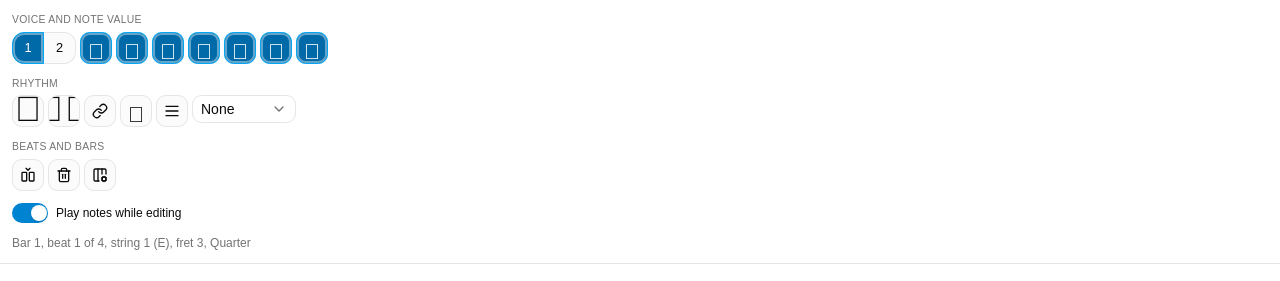
Test case: EditToolbar › names every button and shows its shortcut in a tooltip
Hover over the button named "Dot" at coordinates (28, 111), box [12,95,44,127]
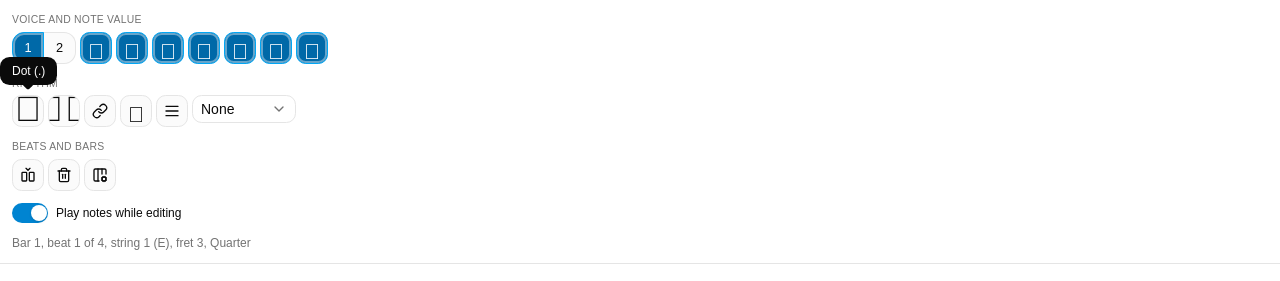
Expected: the tooltip reads "Dot (.)", [12,64,45,78]
